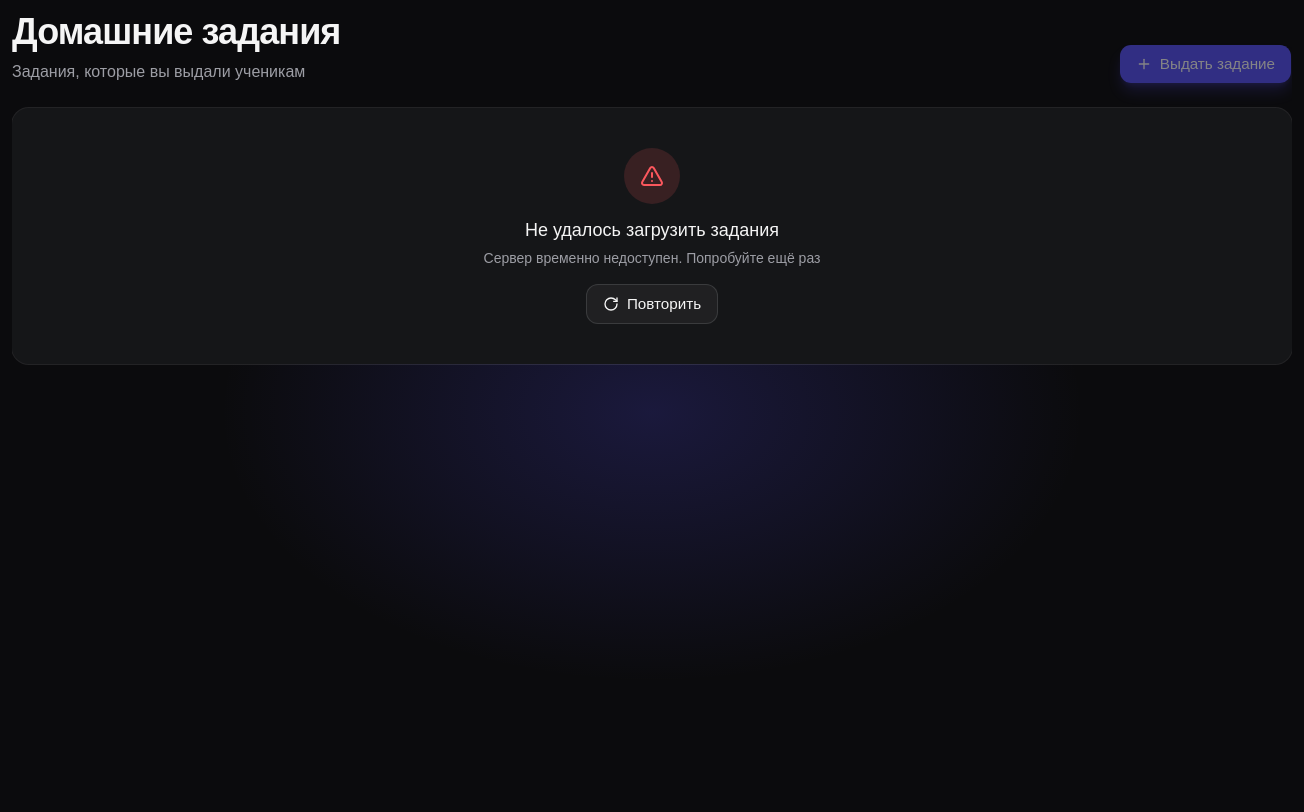
Test: Список заданий: состояния › ошибка сервера: понятное сообщение и «Повторить» загружает заново
expect the message shows "Не удалось загрузить задания": met, box [525,220,779,240]
expect the message shows "Сервер временно недоступен": met, box [484,250,820,266]
Click the button "Повторить" at {"x": 652, "y": 304}, box [586,284,718,324]
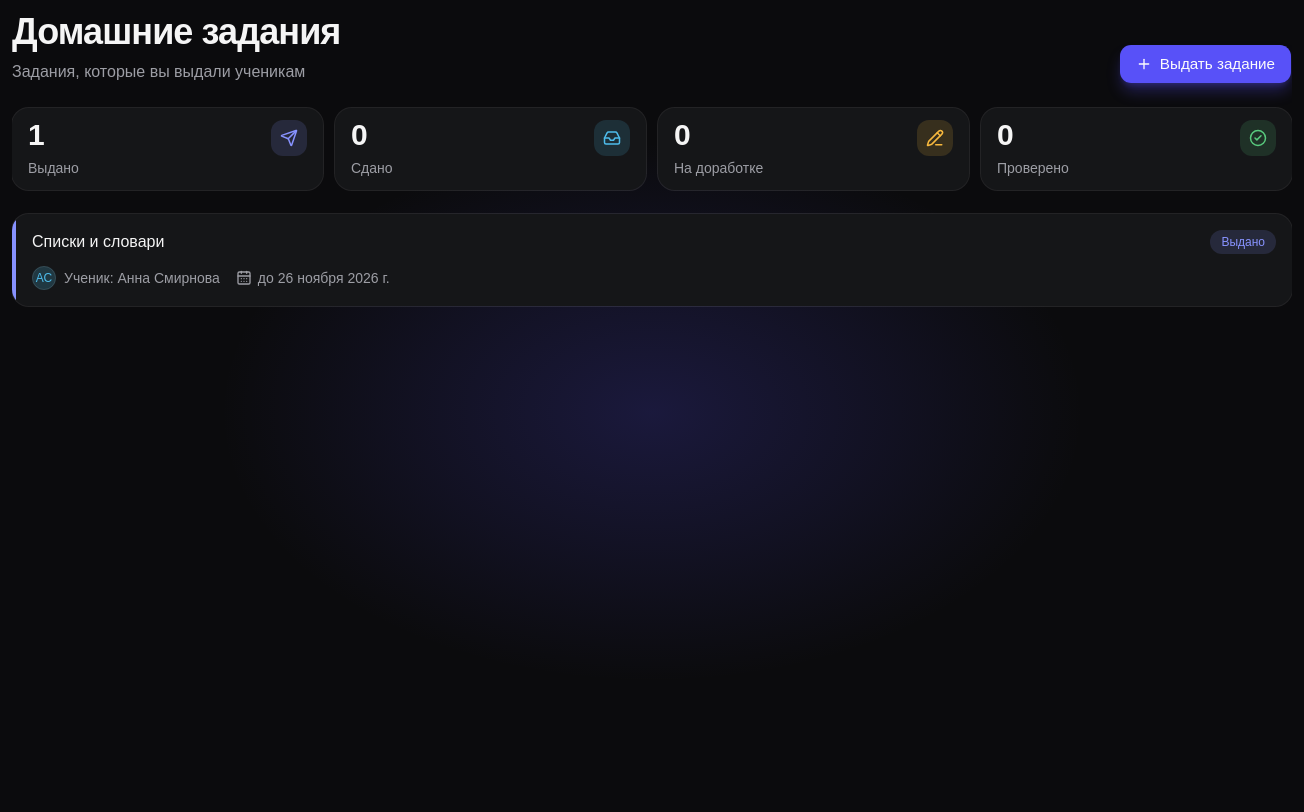
expect the text "Списки и словари" is shown: met, box [32,230,164,254]
expect the message "Не удалось загрузить задания Сервер временно недоступен. Попробуйте ещё раз" is gone: met
